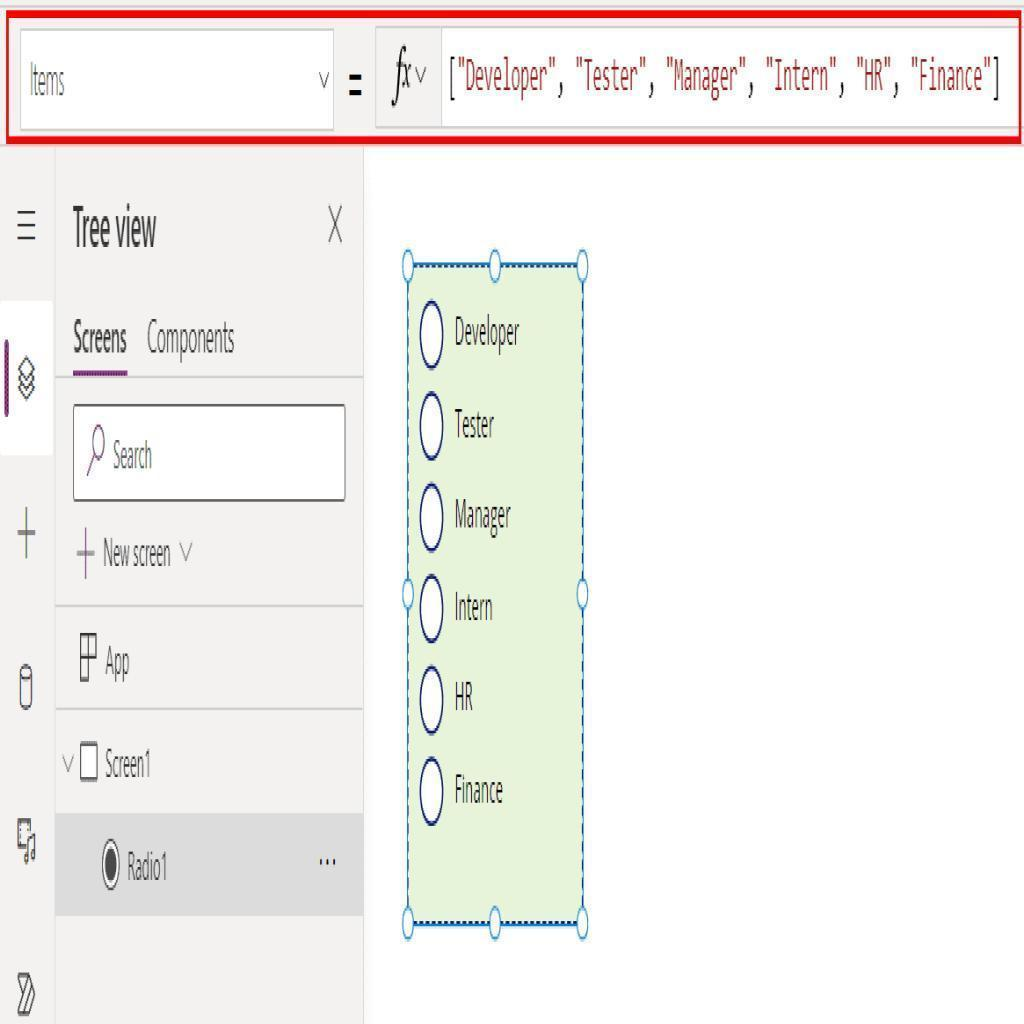checkbox: (77, 740, 100, 782)
dropdown: (21, 19, 335, 134)
icon: (6, 805, 50, 869), (12, 499, 48, 574), (68, 619, 102, 692), (9, 201, 50, 259), (9, 652, 41, 720), (11, 963, 45, 1016), (83, 420, 109, 484), (14, 352, 41, 404), (70, 524, 93, 585), (322, 199, 353, 242), (311, 844, 343, 885)
input: (75, 405, 343, 499)
radio: (416, 755, 449, 831), (415, 569, 445, 649), (417, 297, 449, 368), (417, 665, 449, 736), (418, 479, 444, 555), (420, 391, 443, 463), (99, 836, 120, 895)
